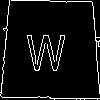W: (25, 25, 66, 72)
